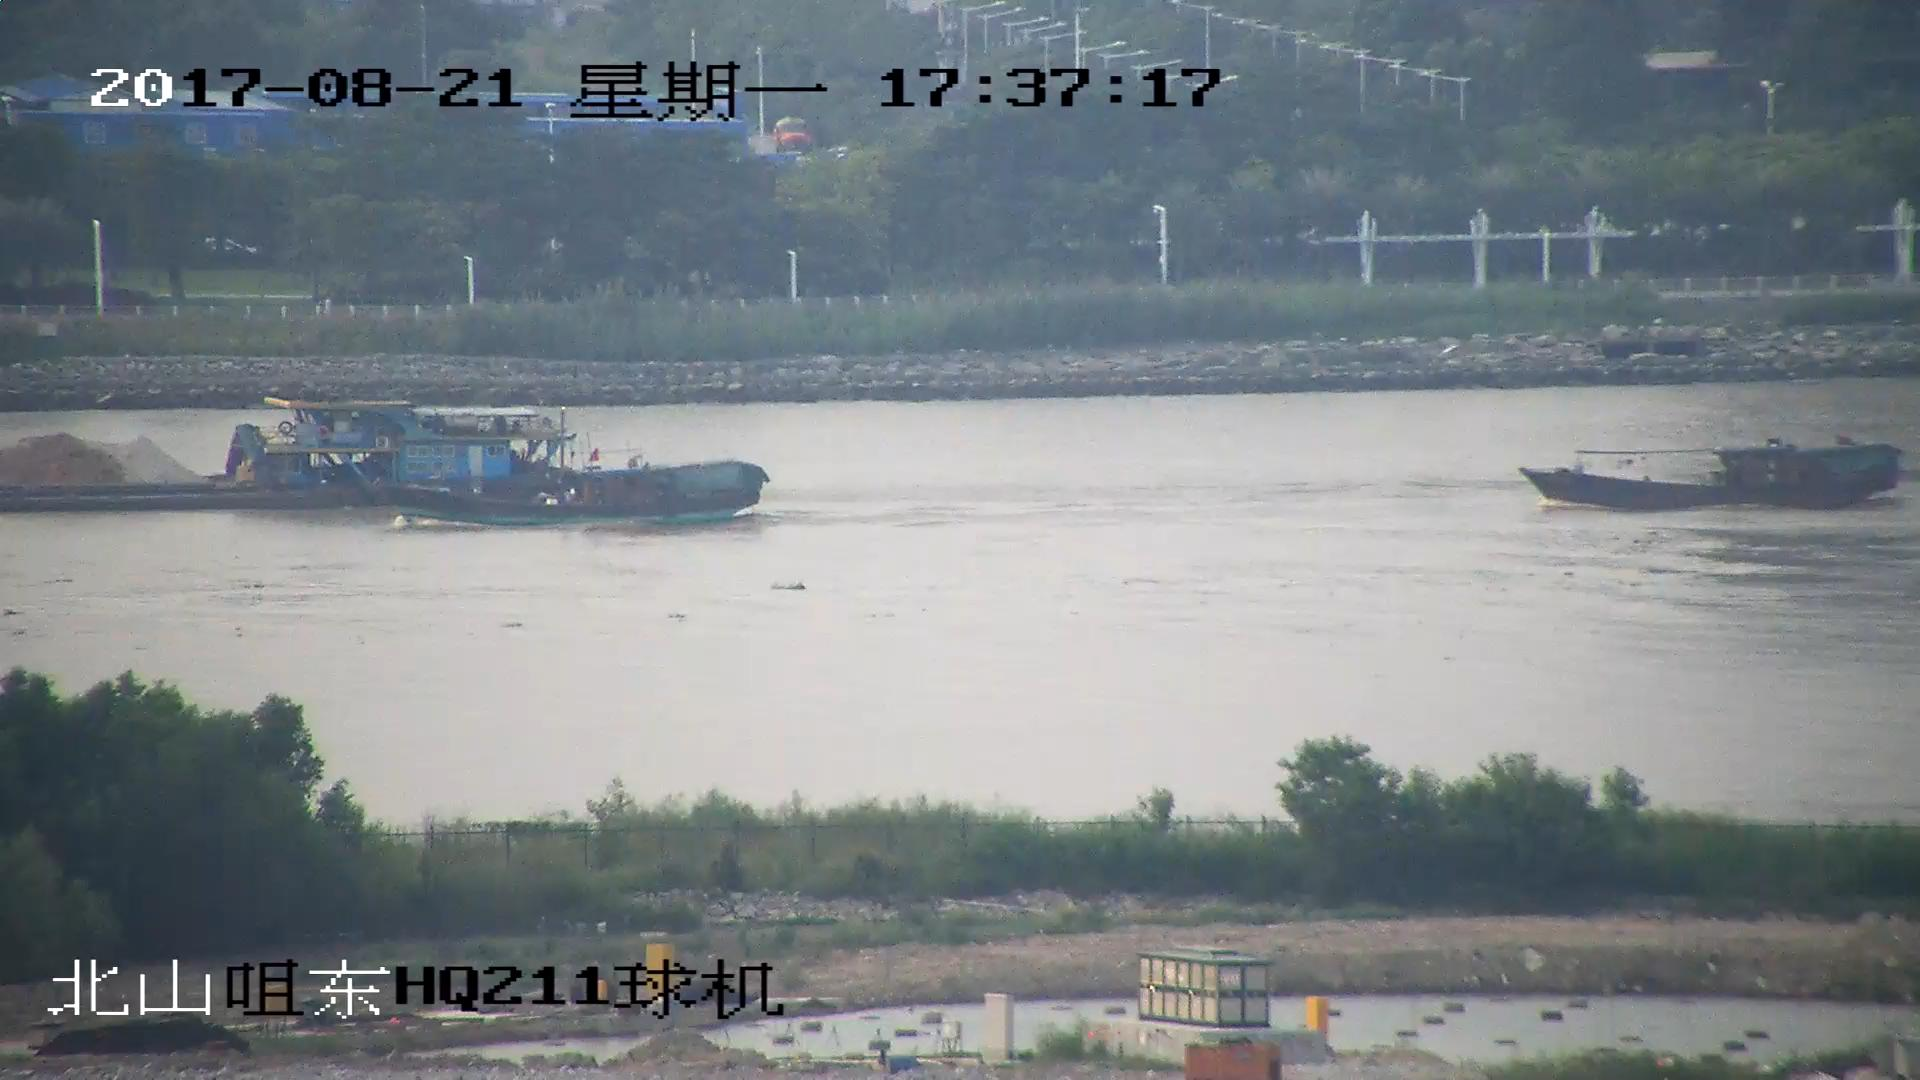fishing boat: (393, 428, 766, 526), (1520, 440, 1901, 509)
ore carrier: (1, 399, 476, 504)
